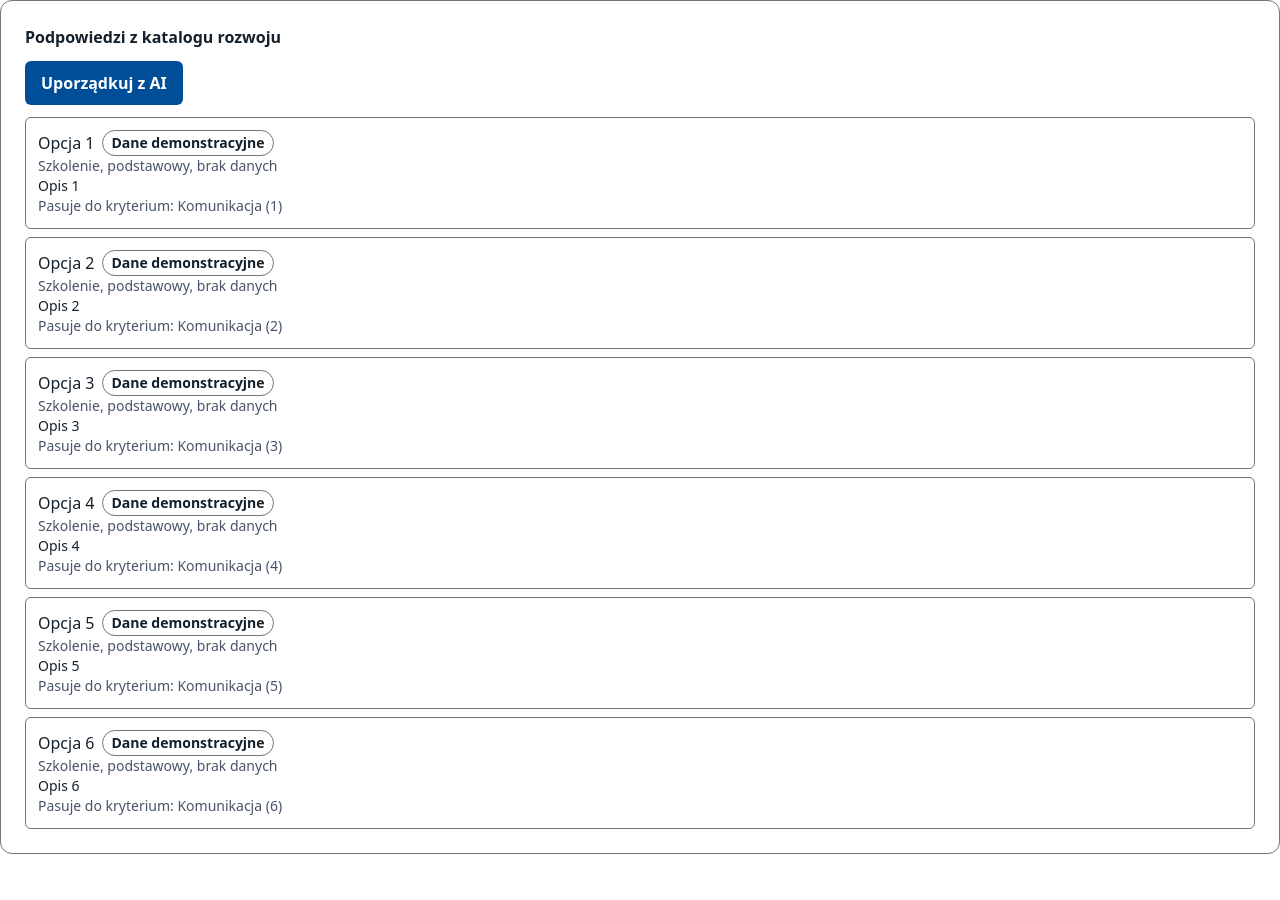
it: DevelopmentSuggestions › replaces the list with the AI order and rationale
Click the button "Uporządkuj z AI" at x=104, y=83, box [25, 61, 183, 105]
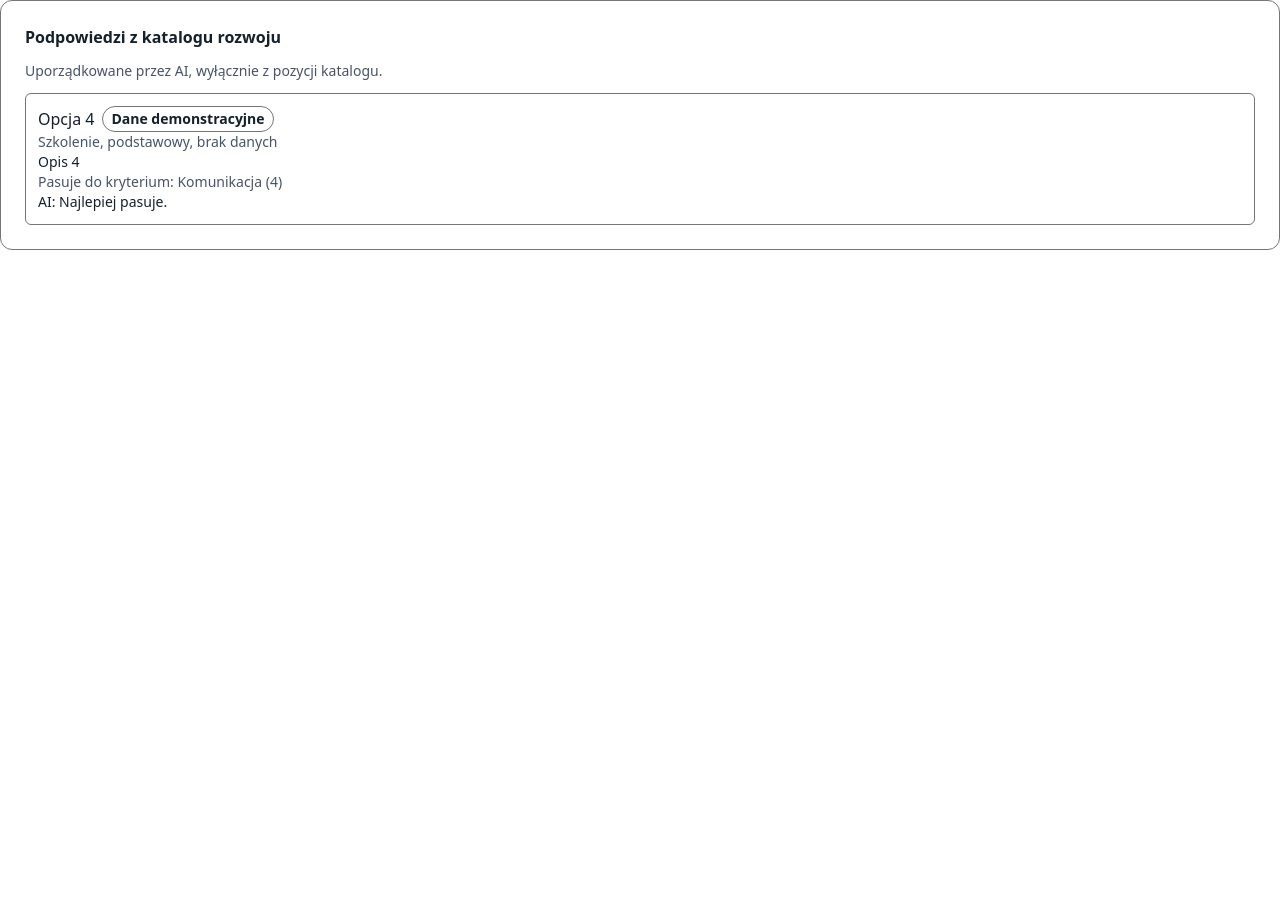
Now the text "AI: Najlepiej pasuje." is shown, box [38, 192, 167, 211]
Now the text "Opcja 1" is gone
Now the button "Uporządkuj z AI" is gone
